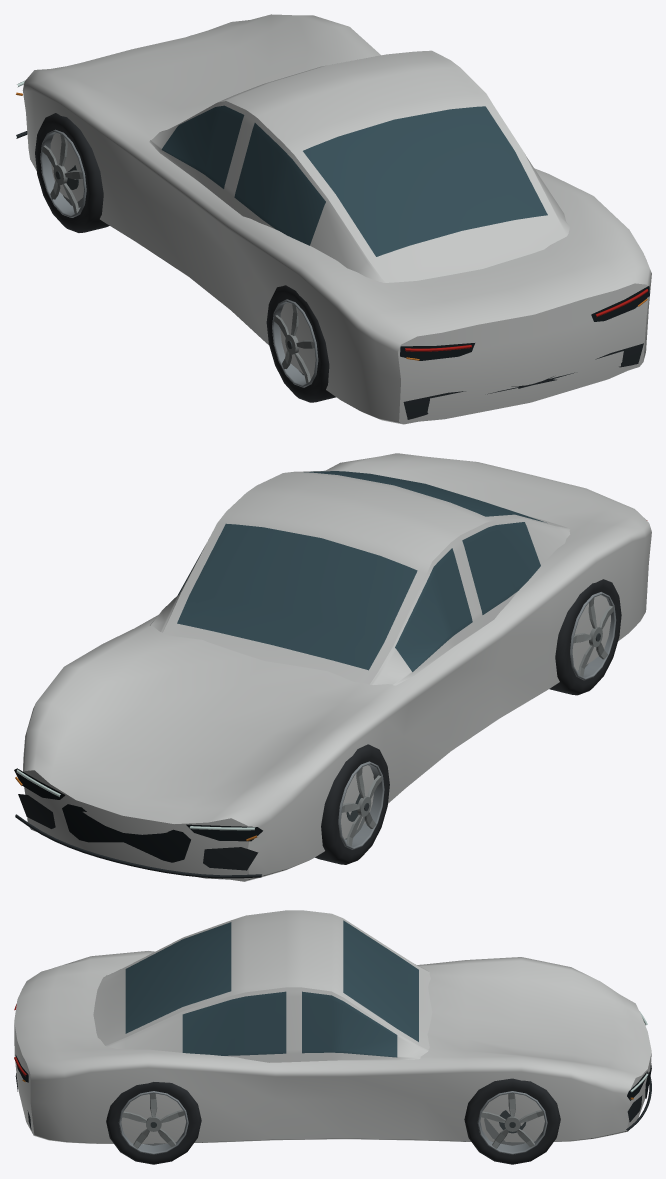
Rendered from sazan-s-lod.glb.
The picture shows the model from 3 angles, top to bottom: view 1: azimuth 30°, elevation 25°; view 2: azimuth 150°, elevation 25°; view 3: azimuth 270°, elevation 25°; orthographic projection. The views are drawn at different scales.
Visible parts, largest first — view 1: paint, glass, wheelSurface (×2), trim; view 2: paint, glass, wheelSurface (×2), trim; view 3: paint, glass, wheelSurface (×2), trim.
Boxes of the visible parts, x1,y1,x2,y2 form: paint: (22,14,651,424); glass: (161,105,547,256); wheelSurface (×2): (35,113,335,402); trim: (16,131,649,419); paint: (23,453,651,881); glass: (166,471,546,671); wheelSurface (×2): (315,579,621,864); trim: (14,768,262,878); paint: (14,910,651,1144); glass: (125,920,418,1057); wheelSurface (×2): (106,1078,560,1164); trim: (15,1055,651,1131).
Size of the model in its own units: 1.9 by 1.29 by 4.39.
